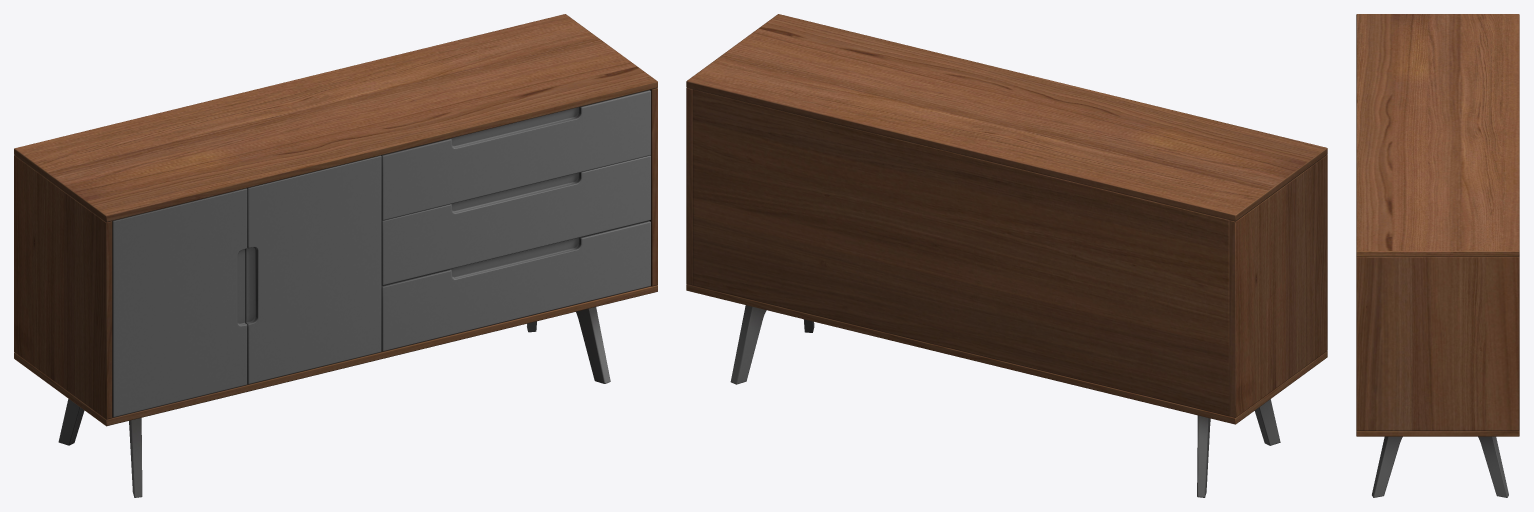
The model's file is Jeson-sideboard-dark.FBX.
The picture shows the model from 3 angles, left to right: view 1: azimuth 30°, elevation 25°; view 2: azimuth 150°, elevation 25°; view 3: azimuth 270°, elevation 25°; orthographic projection. The views are drawn at different scales.
Parts seen in each view (by area): view 1: Jenson_Sideboard_DarkStainOak; view 2: Jenson_Sideboard_DarkStainOak; view 3: Jenson_Sideboard_DarkStainOak.
Part boxes in pixels (x1,y1,x2,y2): Jenson_Sideboard_DarkStainOak: (14, 14, 657, 497); Jenson_Sideboard_DarkStainOak: (686, 14, 1327, 497); Jenson_Sideboard_DarkStainOak: (1356, 14, 1519, 497).
Size of the model in its own units: 61.02 by 31.54 by 17.72.
1 material, 1 textured.
